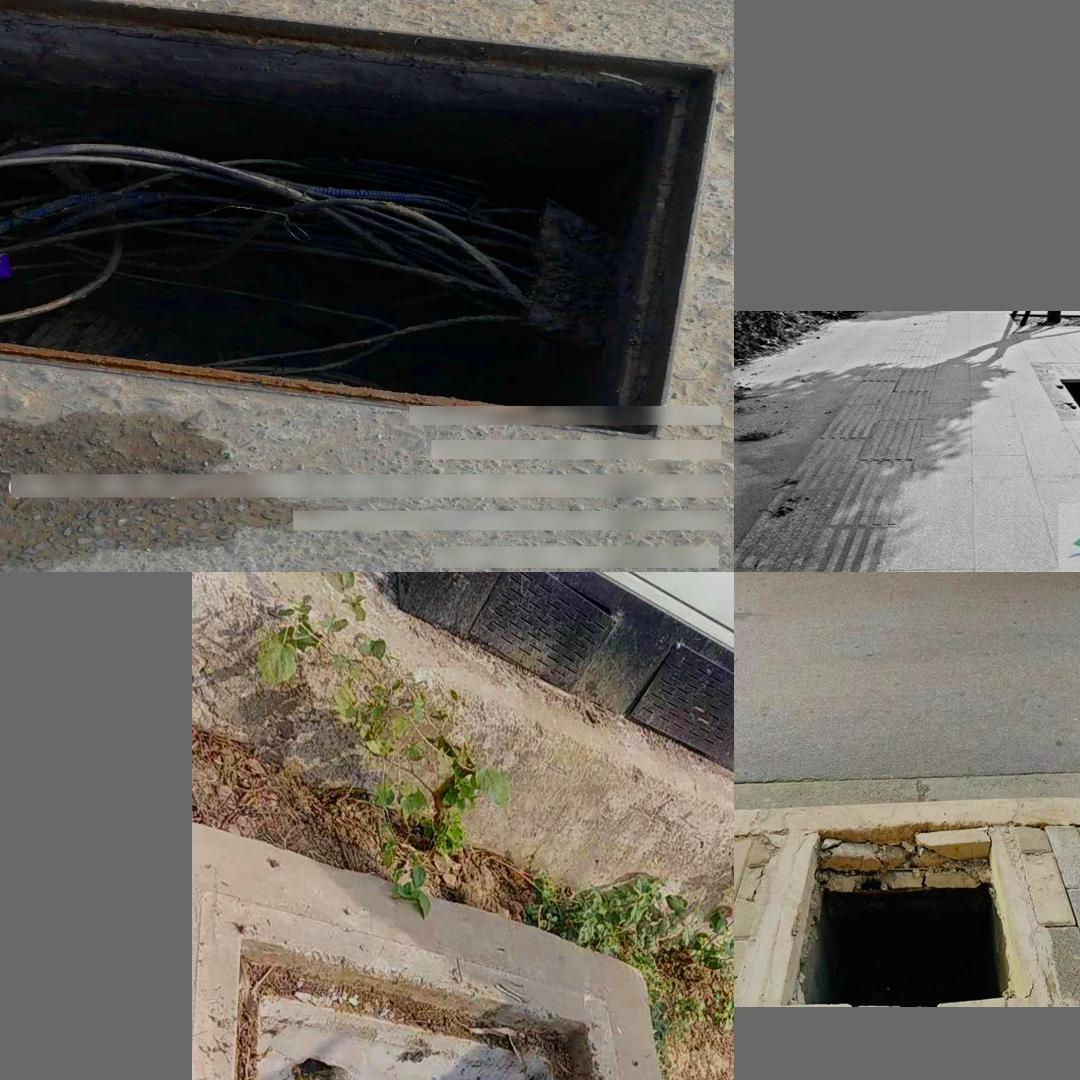lose: (0, 0, 720, 361), (192, 892, 688, 1080), (763, 805, 1032, 1005), (1038, 362, 1080, 427)
